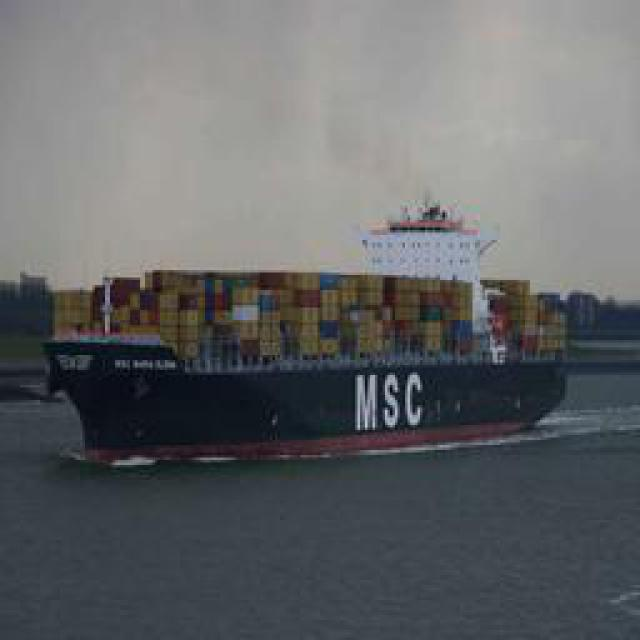Ship: (30, 157, 587, 472)
